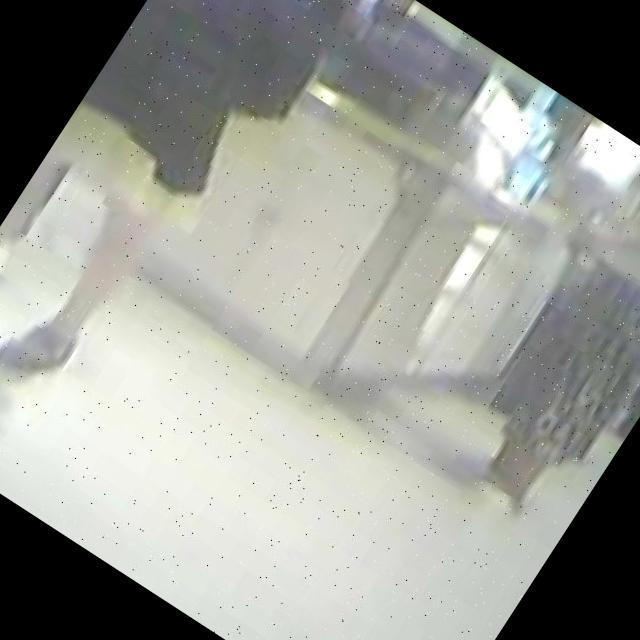person: (0, 0, 336, 405), (434, 150, 640, 542)
